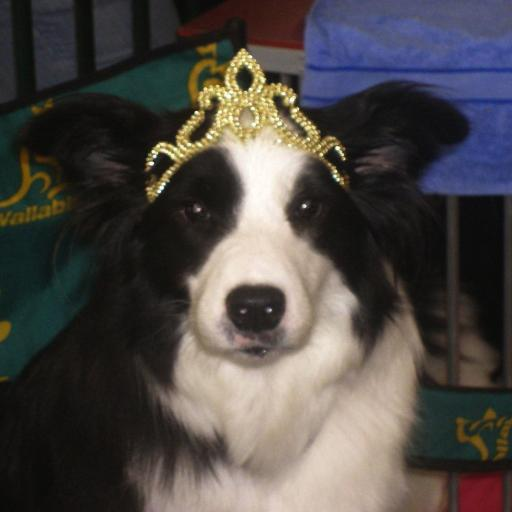dog_face: (31, 68, 457, 367)
